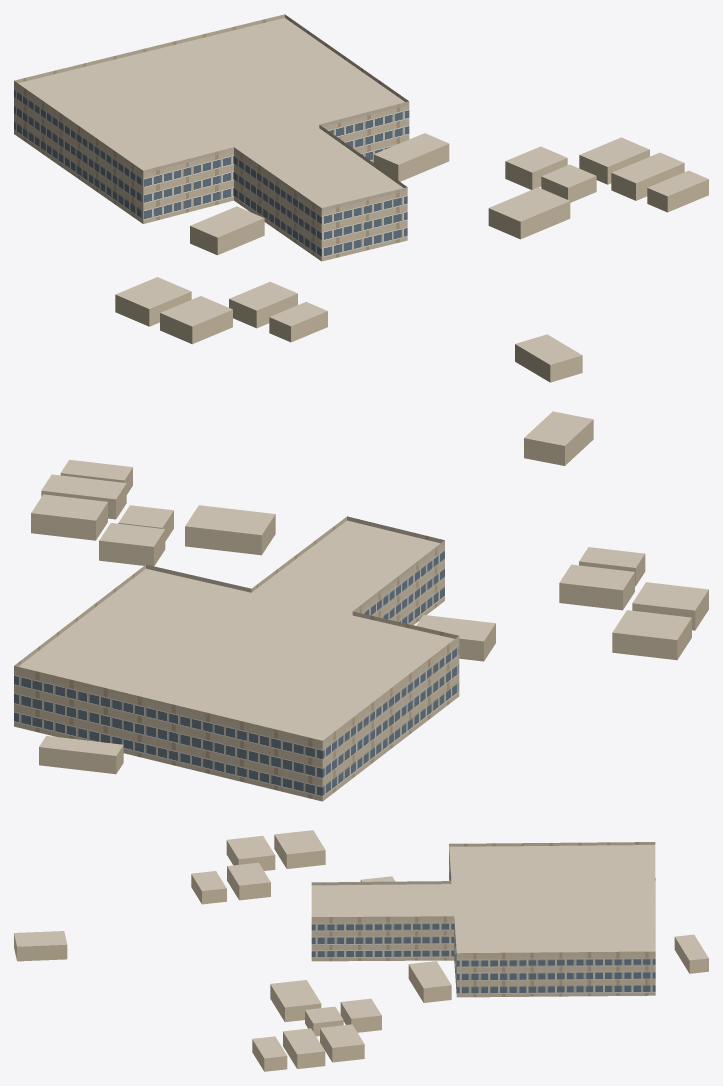
The model's file is assemblee_nationale.glb.
3 views of the same model, one above another, from view 1: azimuth 30°, elevation 25°; view 2: azimuth 150°, elevation 25°; view 3: azimuth 270°, elevation 25° (orthographic). The views are drawn at different scales.
Visible parts, largest first — view 1: Assemblee_Nationale; view 2: Assemblee_Nationale; view 3: Assemblee_Nationale.
Part boxes in pixels (bbox=[...]): Assemblee_Nationale: bbox=[14, 14, 708, 382]; Assemblee_Nationale: bbox=[14, 411, 708, 801]; Assemblee_Nationale: bbox=[14, 830, 708, 1071].
Bounding box in the file's own units: 0.2716 × 0.0257 × 0.35.
Materials: 1 (1 with a texture image).
